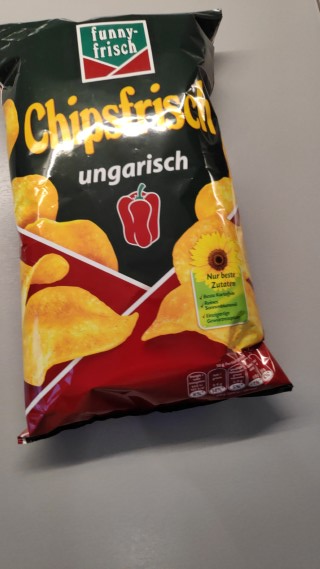chipsfrisch: (1, 6, 295, 447)
